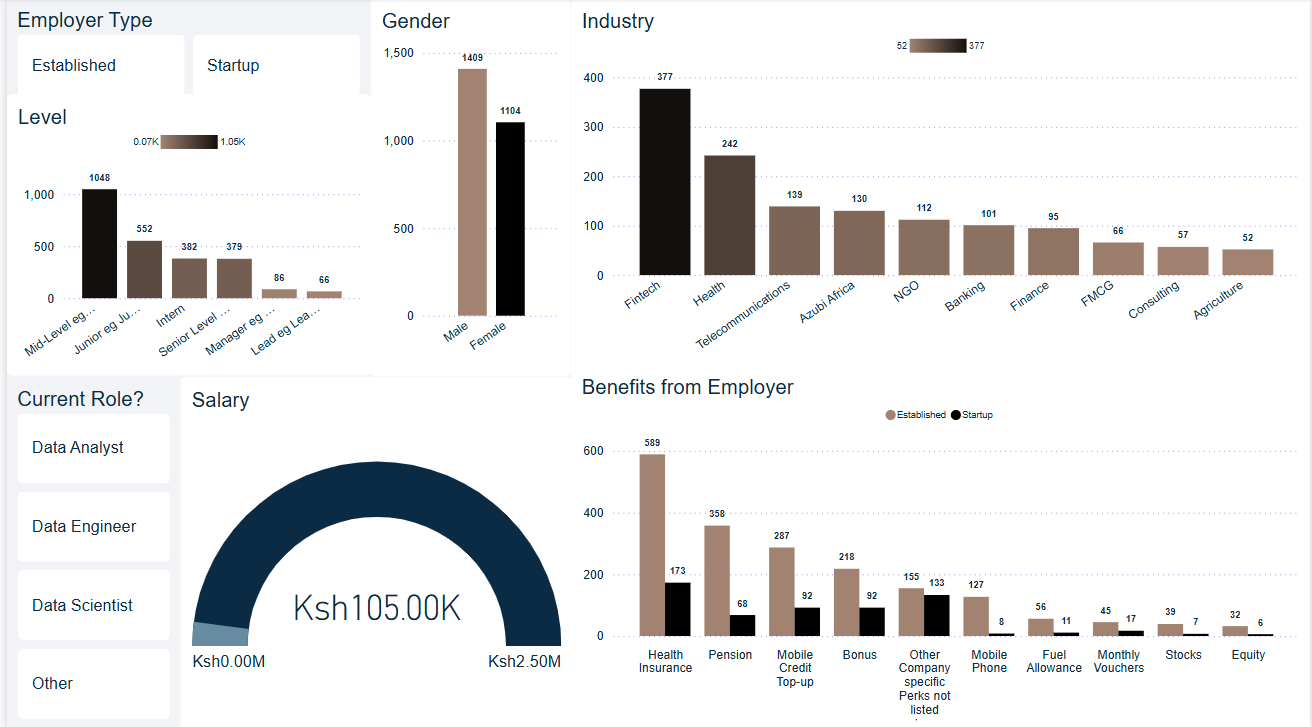

What the dashboard file says about the page in this screenshot:
{"tool":"powerbi","page":{"name":"Additional info","canvas":[1280,720],"ordinal":1},"visuals":[{"type":"clusteredColumnChart","title":"Benefits from Employer","fields":{"Series":["compensation data (Responses) - Form responses 1.Employer Type"],"Category":["compensation data (Responses) - Form responses 1.Any other benefits? - Copy"],"Y":["CountNonNull(compensation data (Responses) - Form responses 1.Employer Type)"]},"box":[553.8,360,726.2,360],"z":0},{"type":"advancedSlicerVisual","fields":{"Values":["compensation data (Responses) - Form responses 1.Employer Type"]},"box":[0,0,357.5,106.2],"z":1000},{"type":"clusteredColumnChart","title":"Industry ","fields":{"Category":["compensation data (Responses) - Form responses 1.What industry is  your Employer? eg Fintech, Utilities, HR, Gaming, Hea"],"Y":["CountNonNull(compensation data (Responses) - Form responses 1.Employer Type)"]},"box":[553.8,0,726.2,371.2],"z":1001},{"type":"advancedSlicerVisual","title":"Current Role?","fields":{"Values":["compensation data (Responses) - Form responses 1.What is your Current Role?"]},"box":[0,371.2,170,348.8],"z":1002},{"type":"columnChart","title":"Gender","fields":{"Category":["compensation data (Responses) - Form responses 1.What is your gender"],"Y":["CountNonNull(compensation data (Responses) - Form responses 1.What is your gender)"],"Series":["compensation data (Responses) - Form responses 1.What is your gender"]},"box":[357.5,0,196.2,371.2],"z":1003},{"type":"gauge","title":"Salary","fields":{"MinValue":["Min(compensation data (Responses) - Form responses 1.What is your monthly Gross Salary in Kes per month?)"],"MaxValue":["Max(compensation data (Responses) - Form responses 1.What is your monthly Gross Salary in Kes per month?)1"],"Y":["Median(compensation data (Responses) - Form responses 1.What is your monthly Gross Salary in Kes per month?)2"]},"box":[170,371.2,383.8,348.8],"z":1004},{"type":"clusteredColumnChart","title":"Level","fields":{"Category":["compensation data (Responses) - Form responses 1.What is your Level?"],"Y":["CountNonNull(compensation data (Responses) - Form responses 1.What is your Current Role?)"]},"box":[0,95,357.5,276.2],"z":1005}]}

Visuals, with their boxes in screenshot pixels (x1, y1, x2, y2), scaled from the page's 1280x720 canvas onto the 1312x727 screenshot:
"Benefits from Employer" clusteredColumnChart: 568 364 1311 726
advancedSlicerVisual - compensation data (Responses) - Form responses 1.Employer Type: 0 0 366 107
"Industry " clusteredColumnChart: 568 0 1311 375
"Current Role?" advancedSlicerVisual: 0 375 174 726
"Gender" columnChart: 366 0 568 375
"Salary" gauge: 174 375 568 726
"Level" clusteredColumnChart: 0 96 366 375
